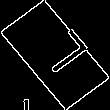L_SW: (23, 27, 87, 83)
